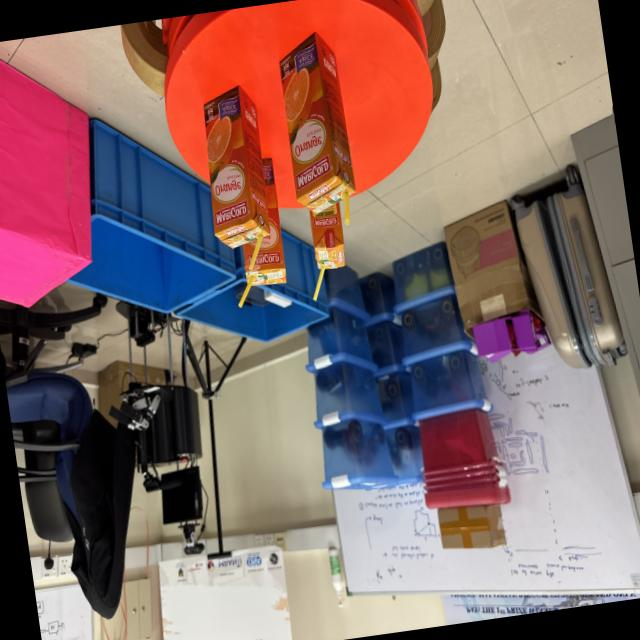drink_carton: (266, 19, 372, 243), (195, 78, 282, 276), (212, 151, 298, 316), (297, 197, 358, 305)
